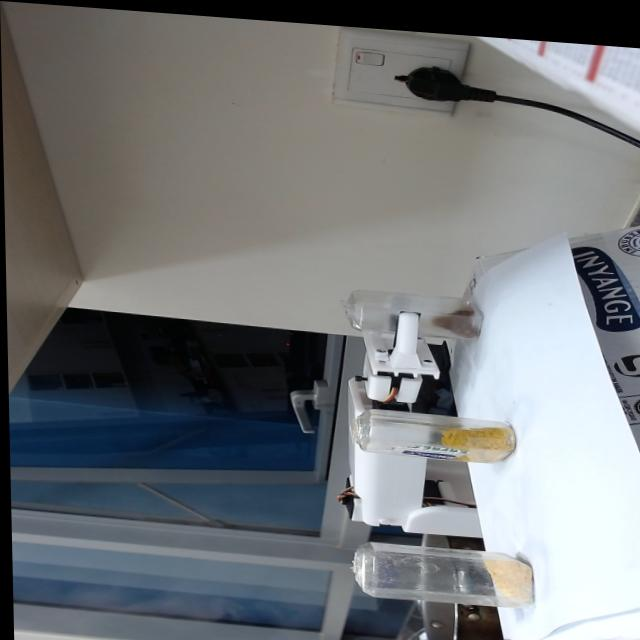cooking_pot: (427, 593, 499, 640)
curry_powder: (449, 412, 516, 455)
garlic_powder: (490, 547, 532, 594)
maggie_open: (430, 298, 486, 328)
